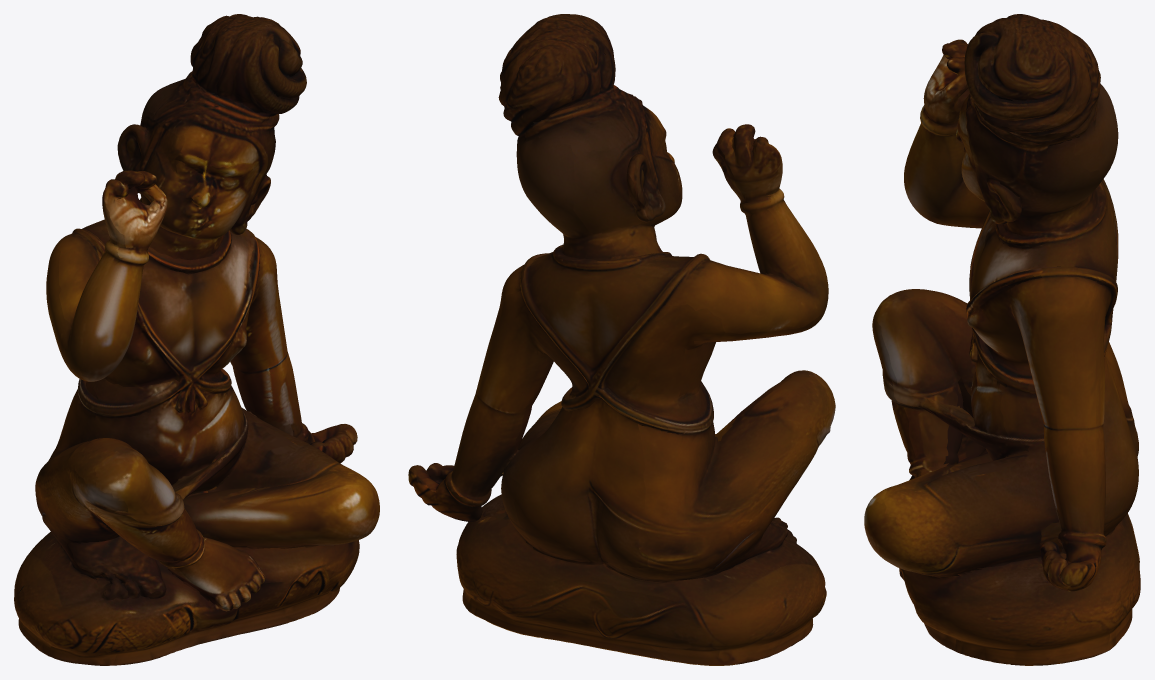
The picture shows the model from 3 angles, left to right: view 1: azimuth 30°, elevation 25°; view 2: azimuth 150°, elevation 25°; view 3: azimuth 270°, elevation 25°; orthographic projection. The views are drawn at different scales.
Visible parts, largest first — view 1: textured_mesh; view 2: textured_mesh; view 3: textured_mesh.
Part boxes in pixels (x1,y1,x2,y2): textured_mesh: (14,14,379,665); textured_mesh: (408,14,835,665); textured_mesh: (864,14,1140,665).
Size of the model in its own units: 1.34 by 1.99 by 0.831.
Materials: 1 (1 with a texture image).
